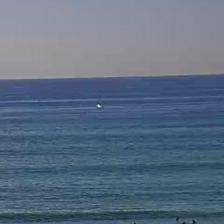surfer: (191, 218, 197, 224), (175, 217, 180, 222), (182, 220, 187, 224), (132, 222, 139, 223)
